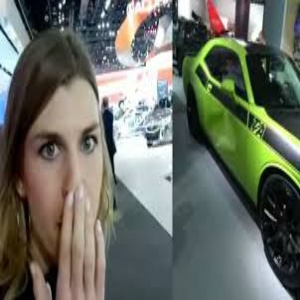door: (192, 98, 255, 157)
